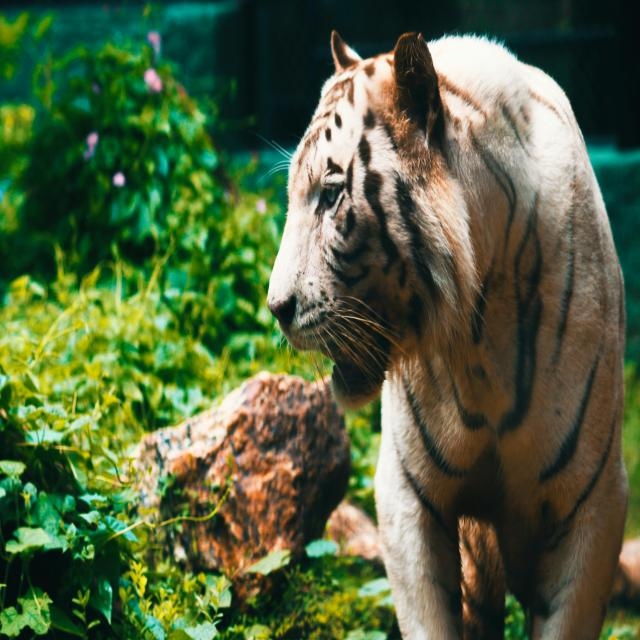Tiger: (270, 29, 626, 640)
